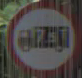Heavy Vehicles: (8, 3, 76, 61)
